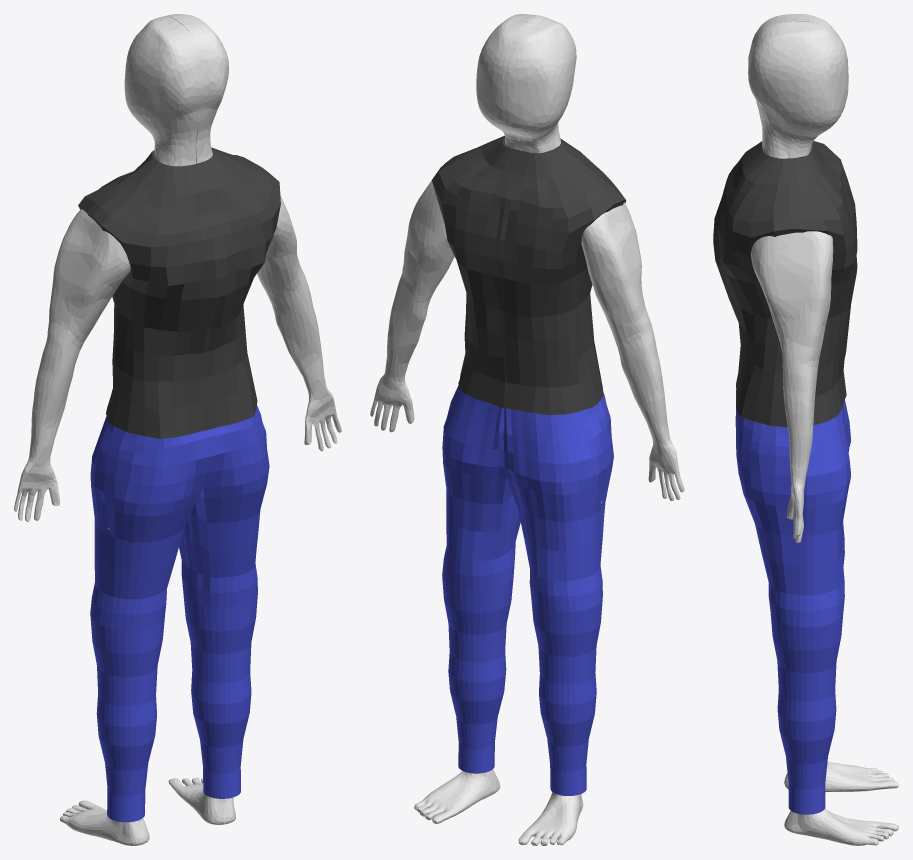
The model's file is fake-character.glb.
3 renders of one model, left to right at view 1: azimuth 30°, elevation 25°; view 2: azimuth 150°, elevation 25°; view 3: azimuth 270°, elevation 25°, orthographic. The views are drawn at different scales.
Visible parts, largest first — view 1: Cylinder, Cylinder.001, Plane.014; view 2: Cylinder, Cylinder.001, Plane.014; view 3: Plane.014, Cylinder, Cylinder.001.
Boxes of the visible parts, bbox=[...] form: Cylinder: bbox=[90, 405, 269, 822]; Cylinder.001: bbox=[78, 147, 280, 438]; Plane.014: bbox=[14, 14, 341, 845]; Cylinder: bbox=[442, 385, 613, 795]; Cylinder.001: bbox=[431, 135, 626, 415]; Plane.014: bbox=[370, 14, 684, 845]; Plane.014: bbox=[748, 14, 898, 845]; Cylinder: bbox=[735, 390, 850, 814]; Cylinder.001: bbox=[713, 141, 857, 427].
Bounding box in the file's own units: 0.4323 × 1.03 × 0.2184.
